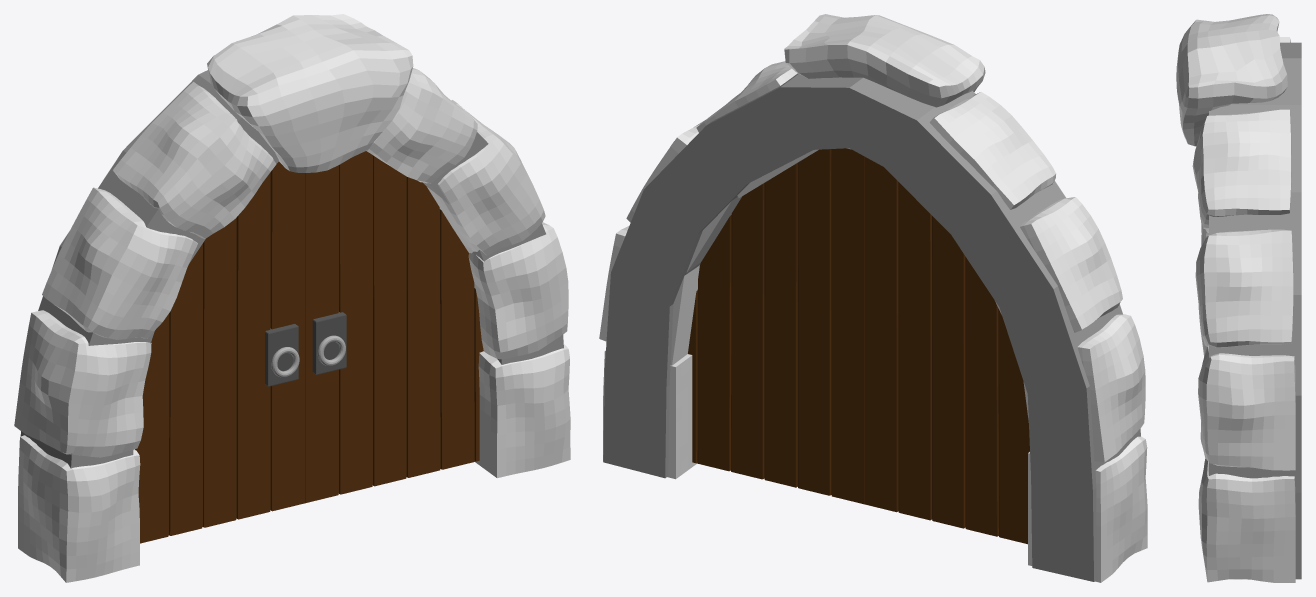
File: Door.fbx
3 views of the same model, side by side, from view 1: azimuth 30°, elevation 25°; view 2: azimuth 150°, elevation 25°; view 3: azimuth 270°, elevation 25° (orthographic). The views are drawn at different scales.
Parts seen in each view (by area): view 1: Cube.045, Cube.046, Cube.039; view 2: Cube.045, Cube.046, Cube.039; view 3: Cube.045.
Part boxes in pixels (x1,y1,x2,y2): Cube.045: (14, 14, 570, 582); Cube.046: (305, 151, 483, 503); Cube.039: (135, 162, 305, 543); Cube.045: (599, 14, 1147, 582); Cube.046: (688, 148, 864, 504); Cube.039: (864, 156, 1029, 544); Cube.045: (1176, 14, 1301, 582).
Bounding box in the file's own units: 927 × 816 × 211.
